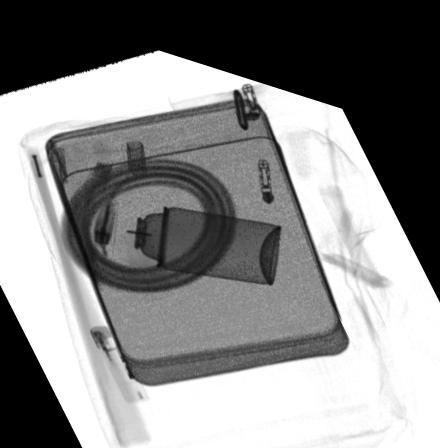Lighter: (88, 317, 150, 395)
Sprayer: (109, 190, 283, 269)
